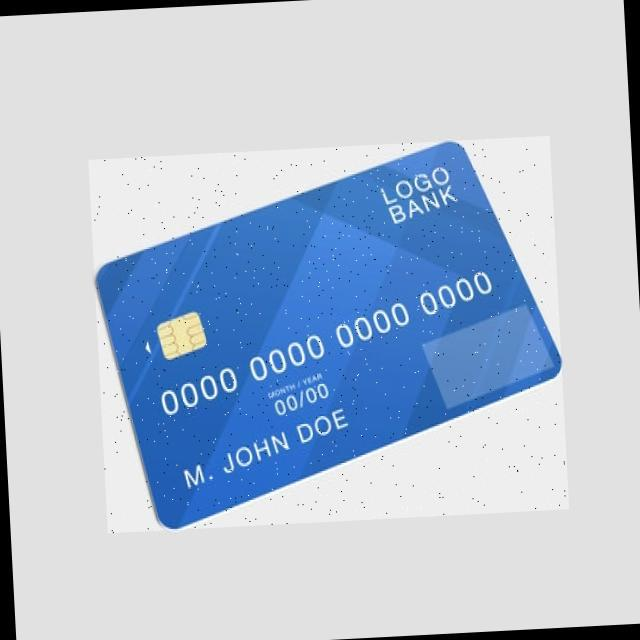payment_card: (90, 137, 567, 530)
